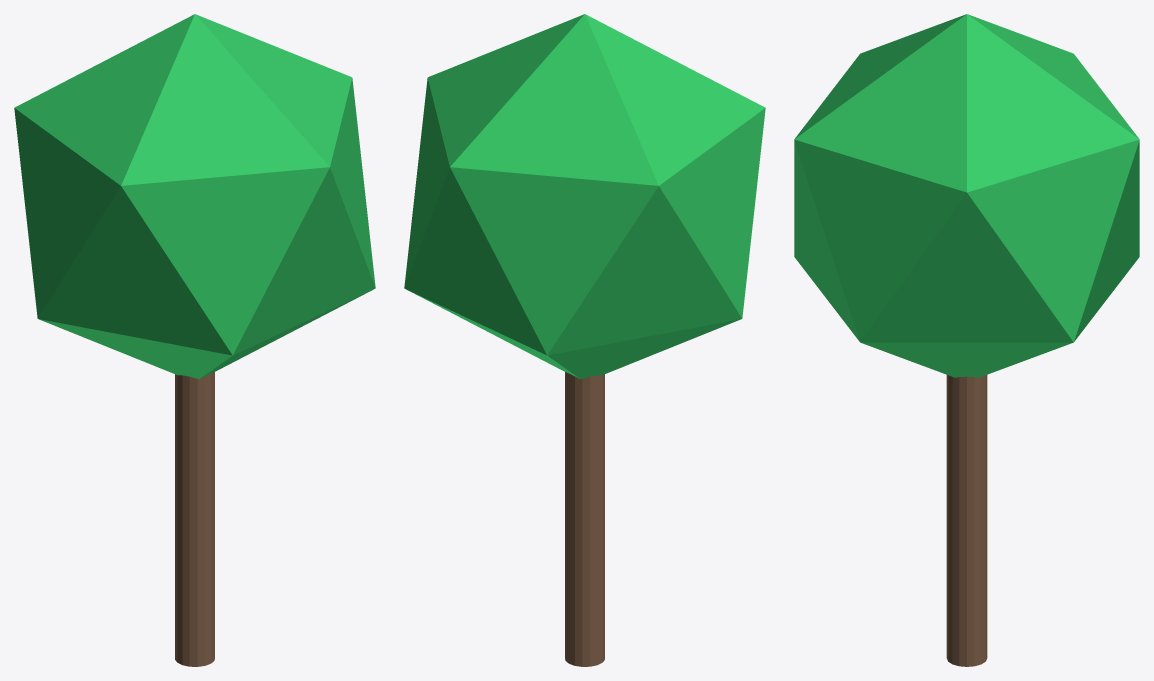
File: tree.obj
The picture shows the model from 3 angles, left to right: view 1: azimuth 30°, elevation 25°; view 2: azimuth 150°, elevation 25°; view 3: azimuth 270°, elevation 25°; orthographic projection.
Parts seen in each view (by area): view 1: Icosphere_Icosphere.001; view 2: Icosphere_Icosphere.001; view 3: Icosphere_Icosphere.001.
Boxes of the visible parts, box(x1,y1,x2,y2) form: Icosphere_Icosphere.001: box(14, 14, 375, 666); Icosphere_Icosphere.001: box(404, 14, 765, 666); Icosphere_Icosphere.001: box(794, 14, 1139, 666).
Bounding box in the file's own units: 0.8944 × 1.75 × 0.8506.
